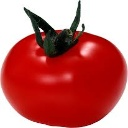tomato: (2, 30, 126, 127)
